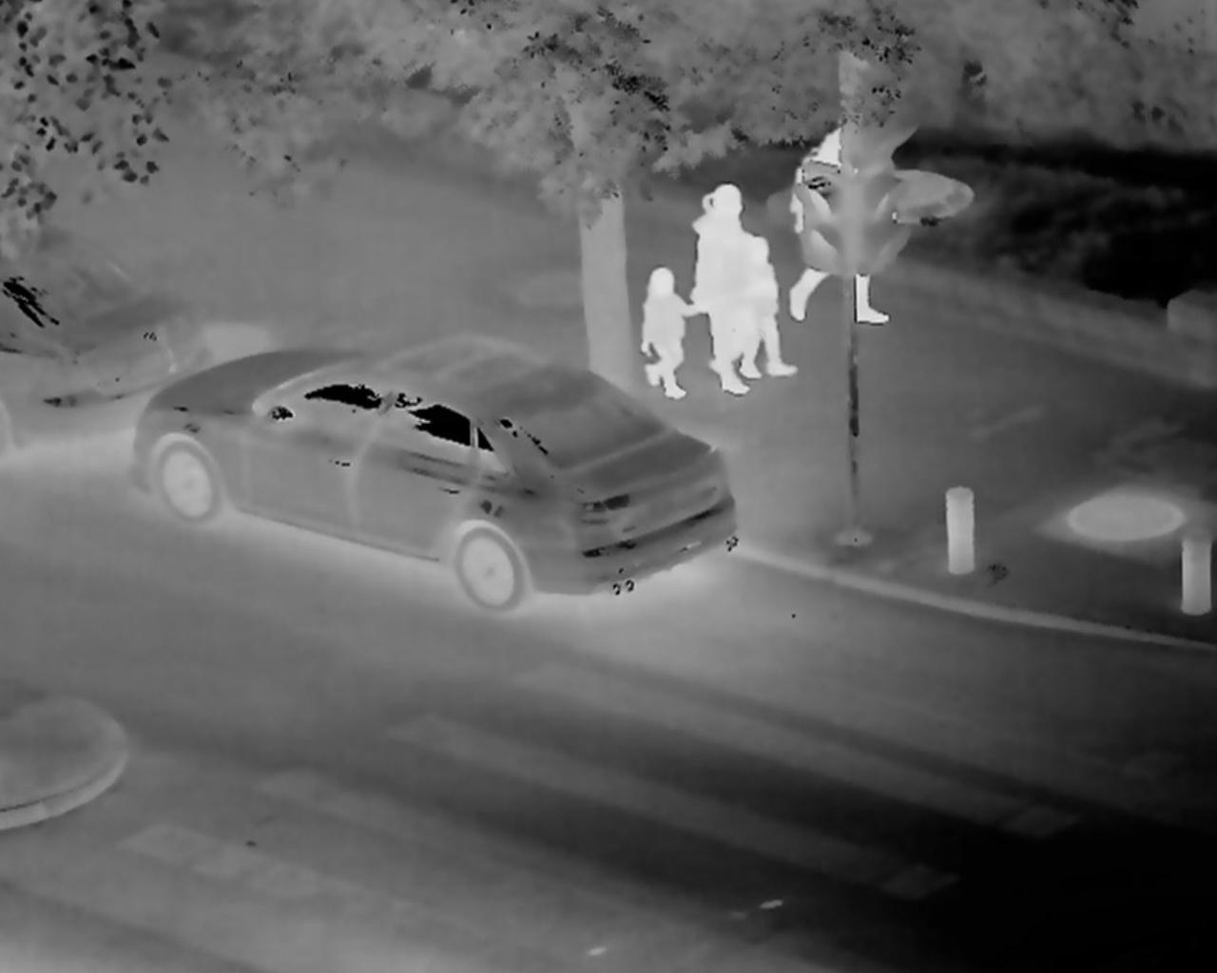person: (792, 114, 887, 338), (695, 181, 751, 396), (743, 244, 797, 383), (643, 260, 687, 393)
